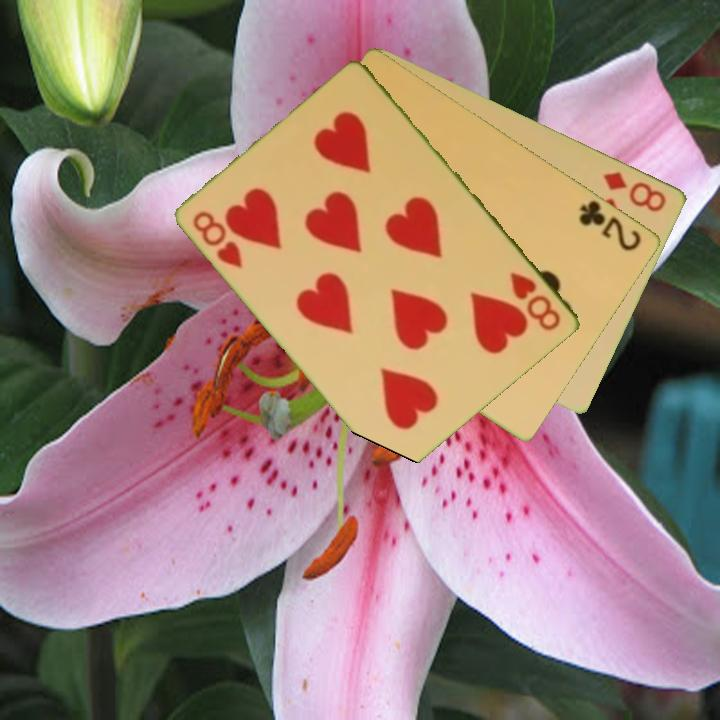2c: (576, 196, 645, 254)
8d: (599, 167, 670, 215)
8h: (507, 268, 564, 334), (190, 207, 247, 272)
